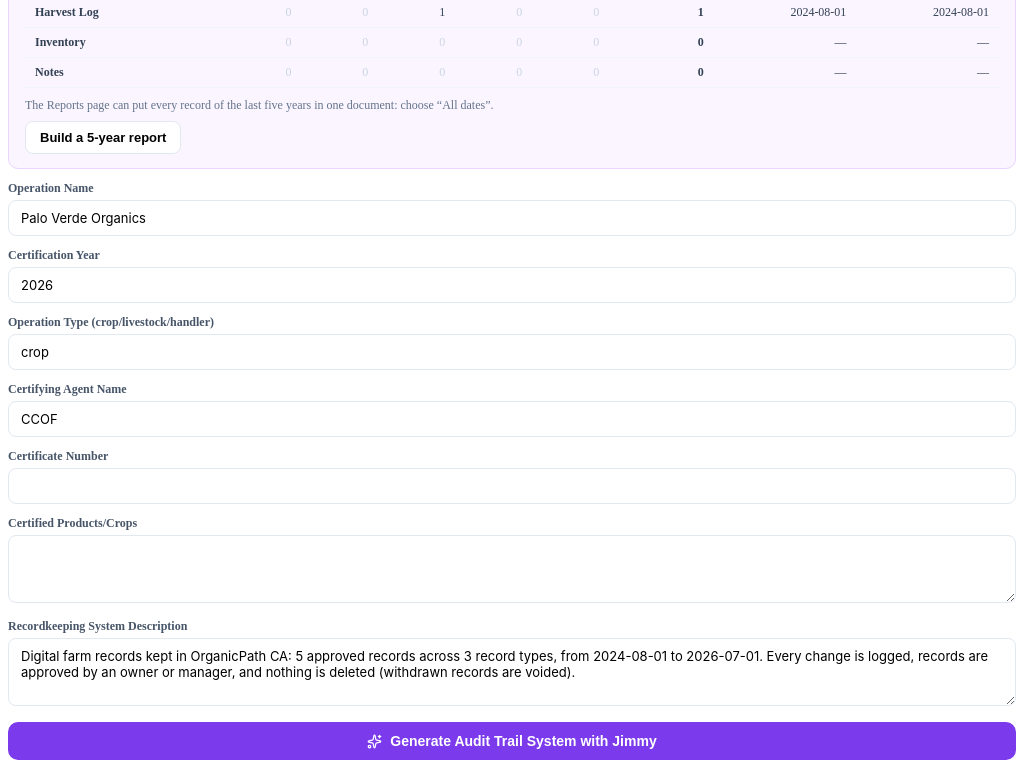
Test: AuditTrailForm: writing the document › gives the AI what the records hold, the gaps, and what was typed, and shows the draft as it arrives
(page scrolled)
Type "12345" into the field labelled "Certificate Number" at (512, 486), box [8,468,1016,504]
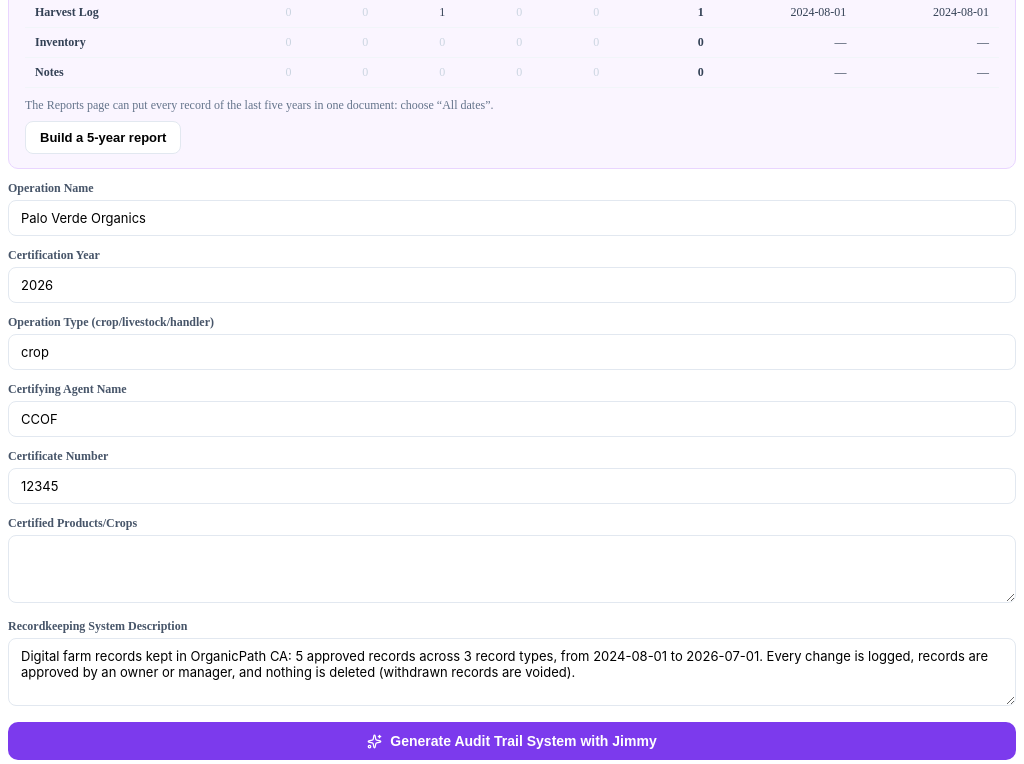
Type "Tomatoes" into the text box labelled "Certified Products/Crops" at (512, 569), box [8,535,1016,603]
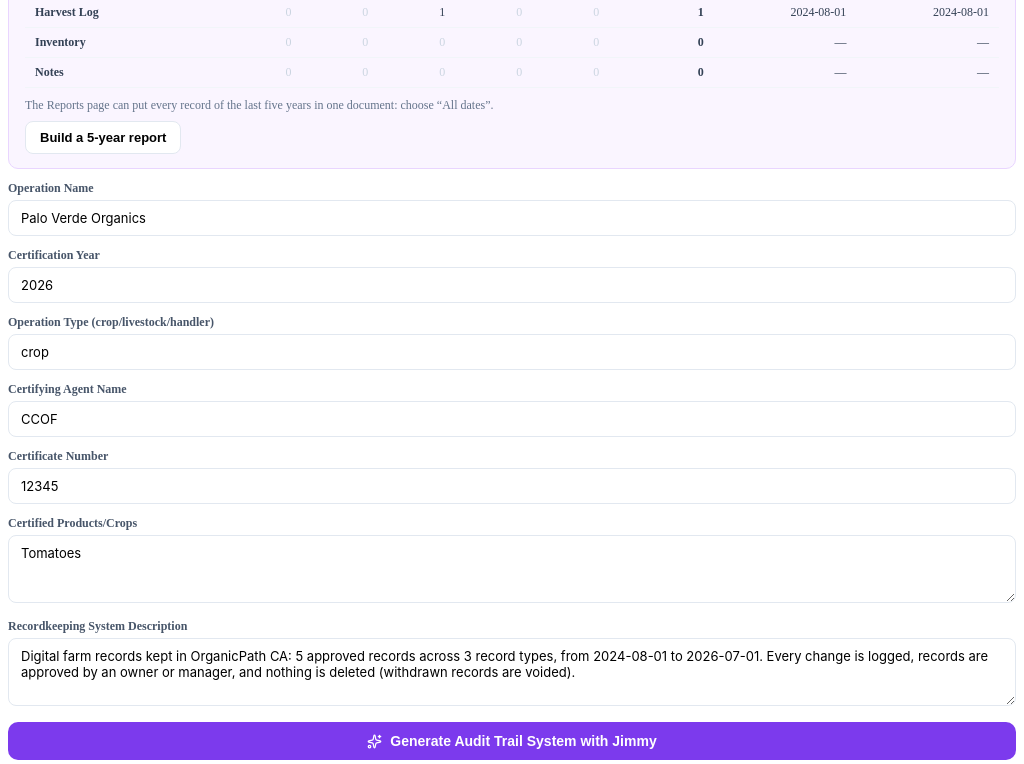
Click the button "Generate Audit Trail System with Jimmy" at (512, 741), box [8,722,1016,760]
(page scrolled)
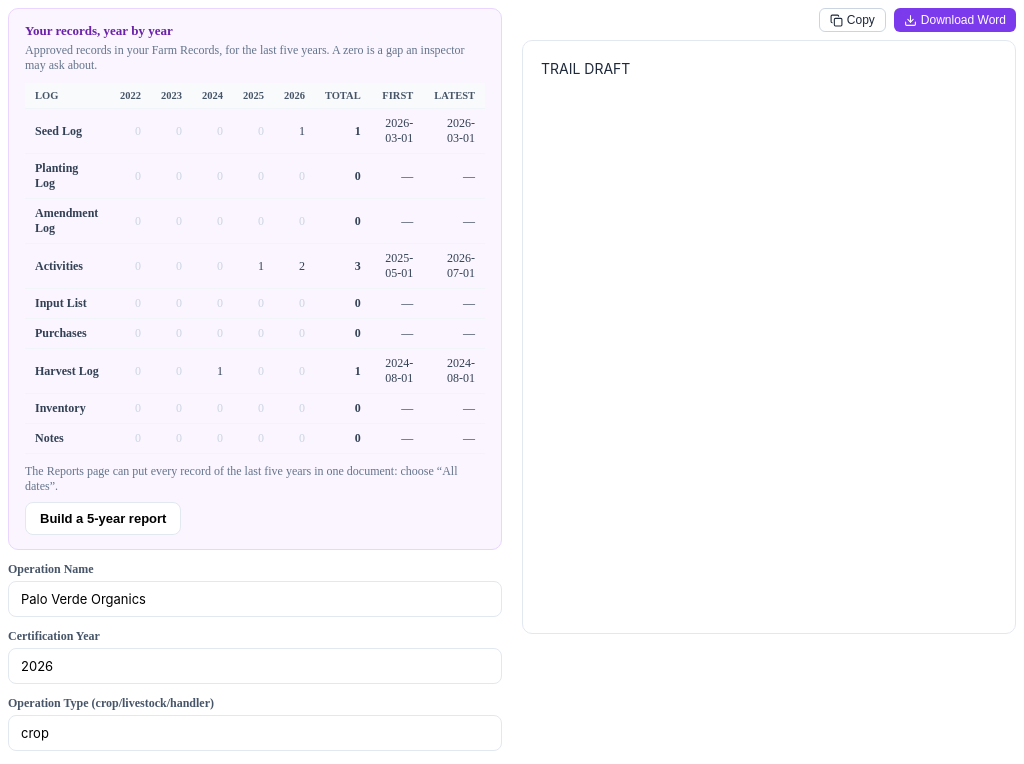
Check: the text "TRAIL DRAFT" is shown, box [541,60,630,77]
